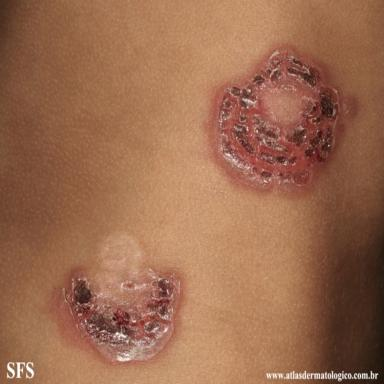Impetigo: (203, 39, 360, 202), (52, 228, 187, 368)
